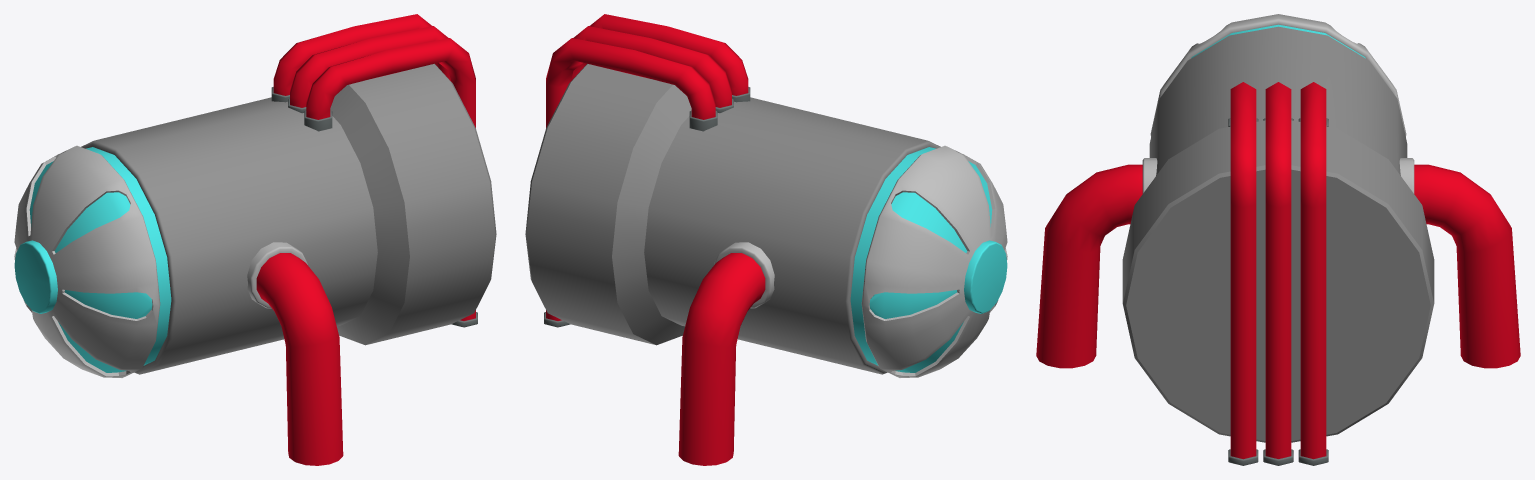
File: Motor.fbx
3 views of the same model, side by side, from view 1: azimuth 30°, elevation 25°; view 2: azimuth 150°, elevation 25°; view 3: azimuth 270°, elevation 25° (orthographic). The views are drawn at different scales.
Parts seen in each view (by area): view 1: Base, pTorus1; view 2: Base, pTorus2; view 3: Base, pTorus2, pTorus1.
Part boxes in pixels (x1=…): Base: x1=14, y1=14, x2=496, y2=377; pTorus1: x1=247, y1=242, x2=343, y2=465; Base: x1=525, y1=14, x2=1007, y2=377; pTorus2: x1=678, y1=242, x2=774, y2=465; Base: x1=1122, y1=14, x2=1434, y2=465; pTorus2: x1=1399, y1=158, x2=1520, y2=368; pTorus1: x1=1036, y1=158, x2=1157, y2=368.
Bounding box in the file's own units: 4.14 × 2.82 × 3.76.
